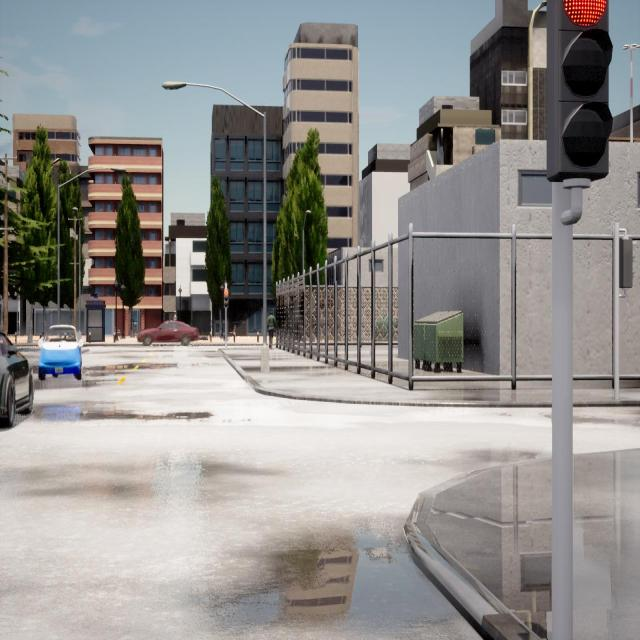Pedestrian: (266, 311, 276, 348)
Vehicle: (0, 329, 33, 428), (38, 325, 82, 381), (136, 321, 199, 346)
traffic_light: (546, 0, 607, 175), (619, 240, 632, 287), (223, 290, 230, 309)
